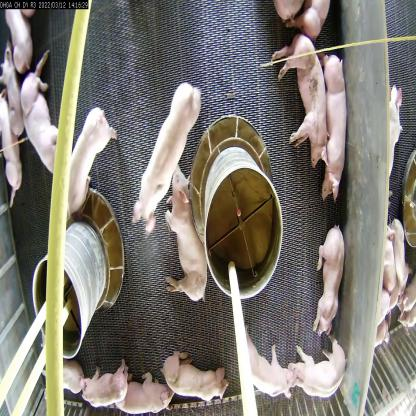Pig: (132, 83, 204, 236), (269, 36, 328, 168), (57, 105, 120, 224), (164, 168, 210, 310), (18, 53, 64, 184), (316, 51, 348, 203), (284, 339, 352, 408), (238, 328, 296, 402), (165, 343, 229, 408), (314, 220, 346, 338), (117, 368, 173, 415), (41, 350, 85, 408), (79, 363, 131, 411)
